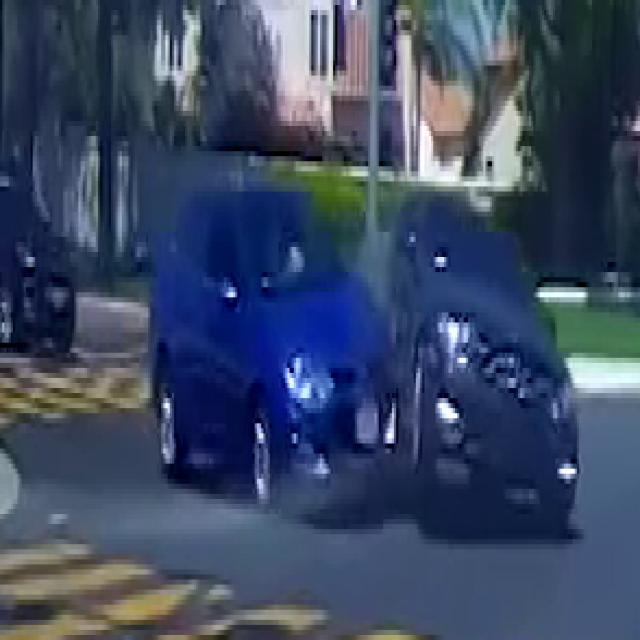accident: (168, 177, 580, 542)
